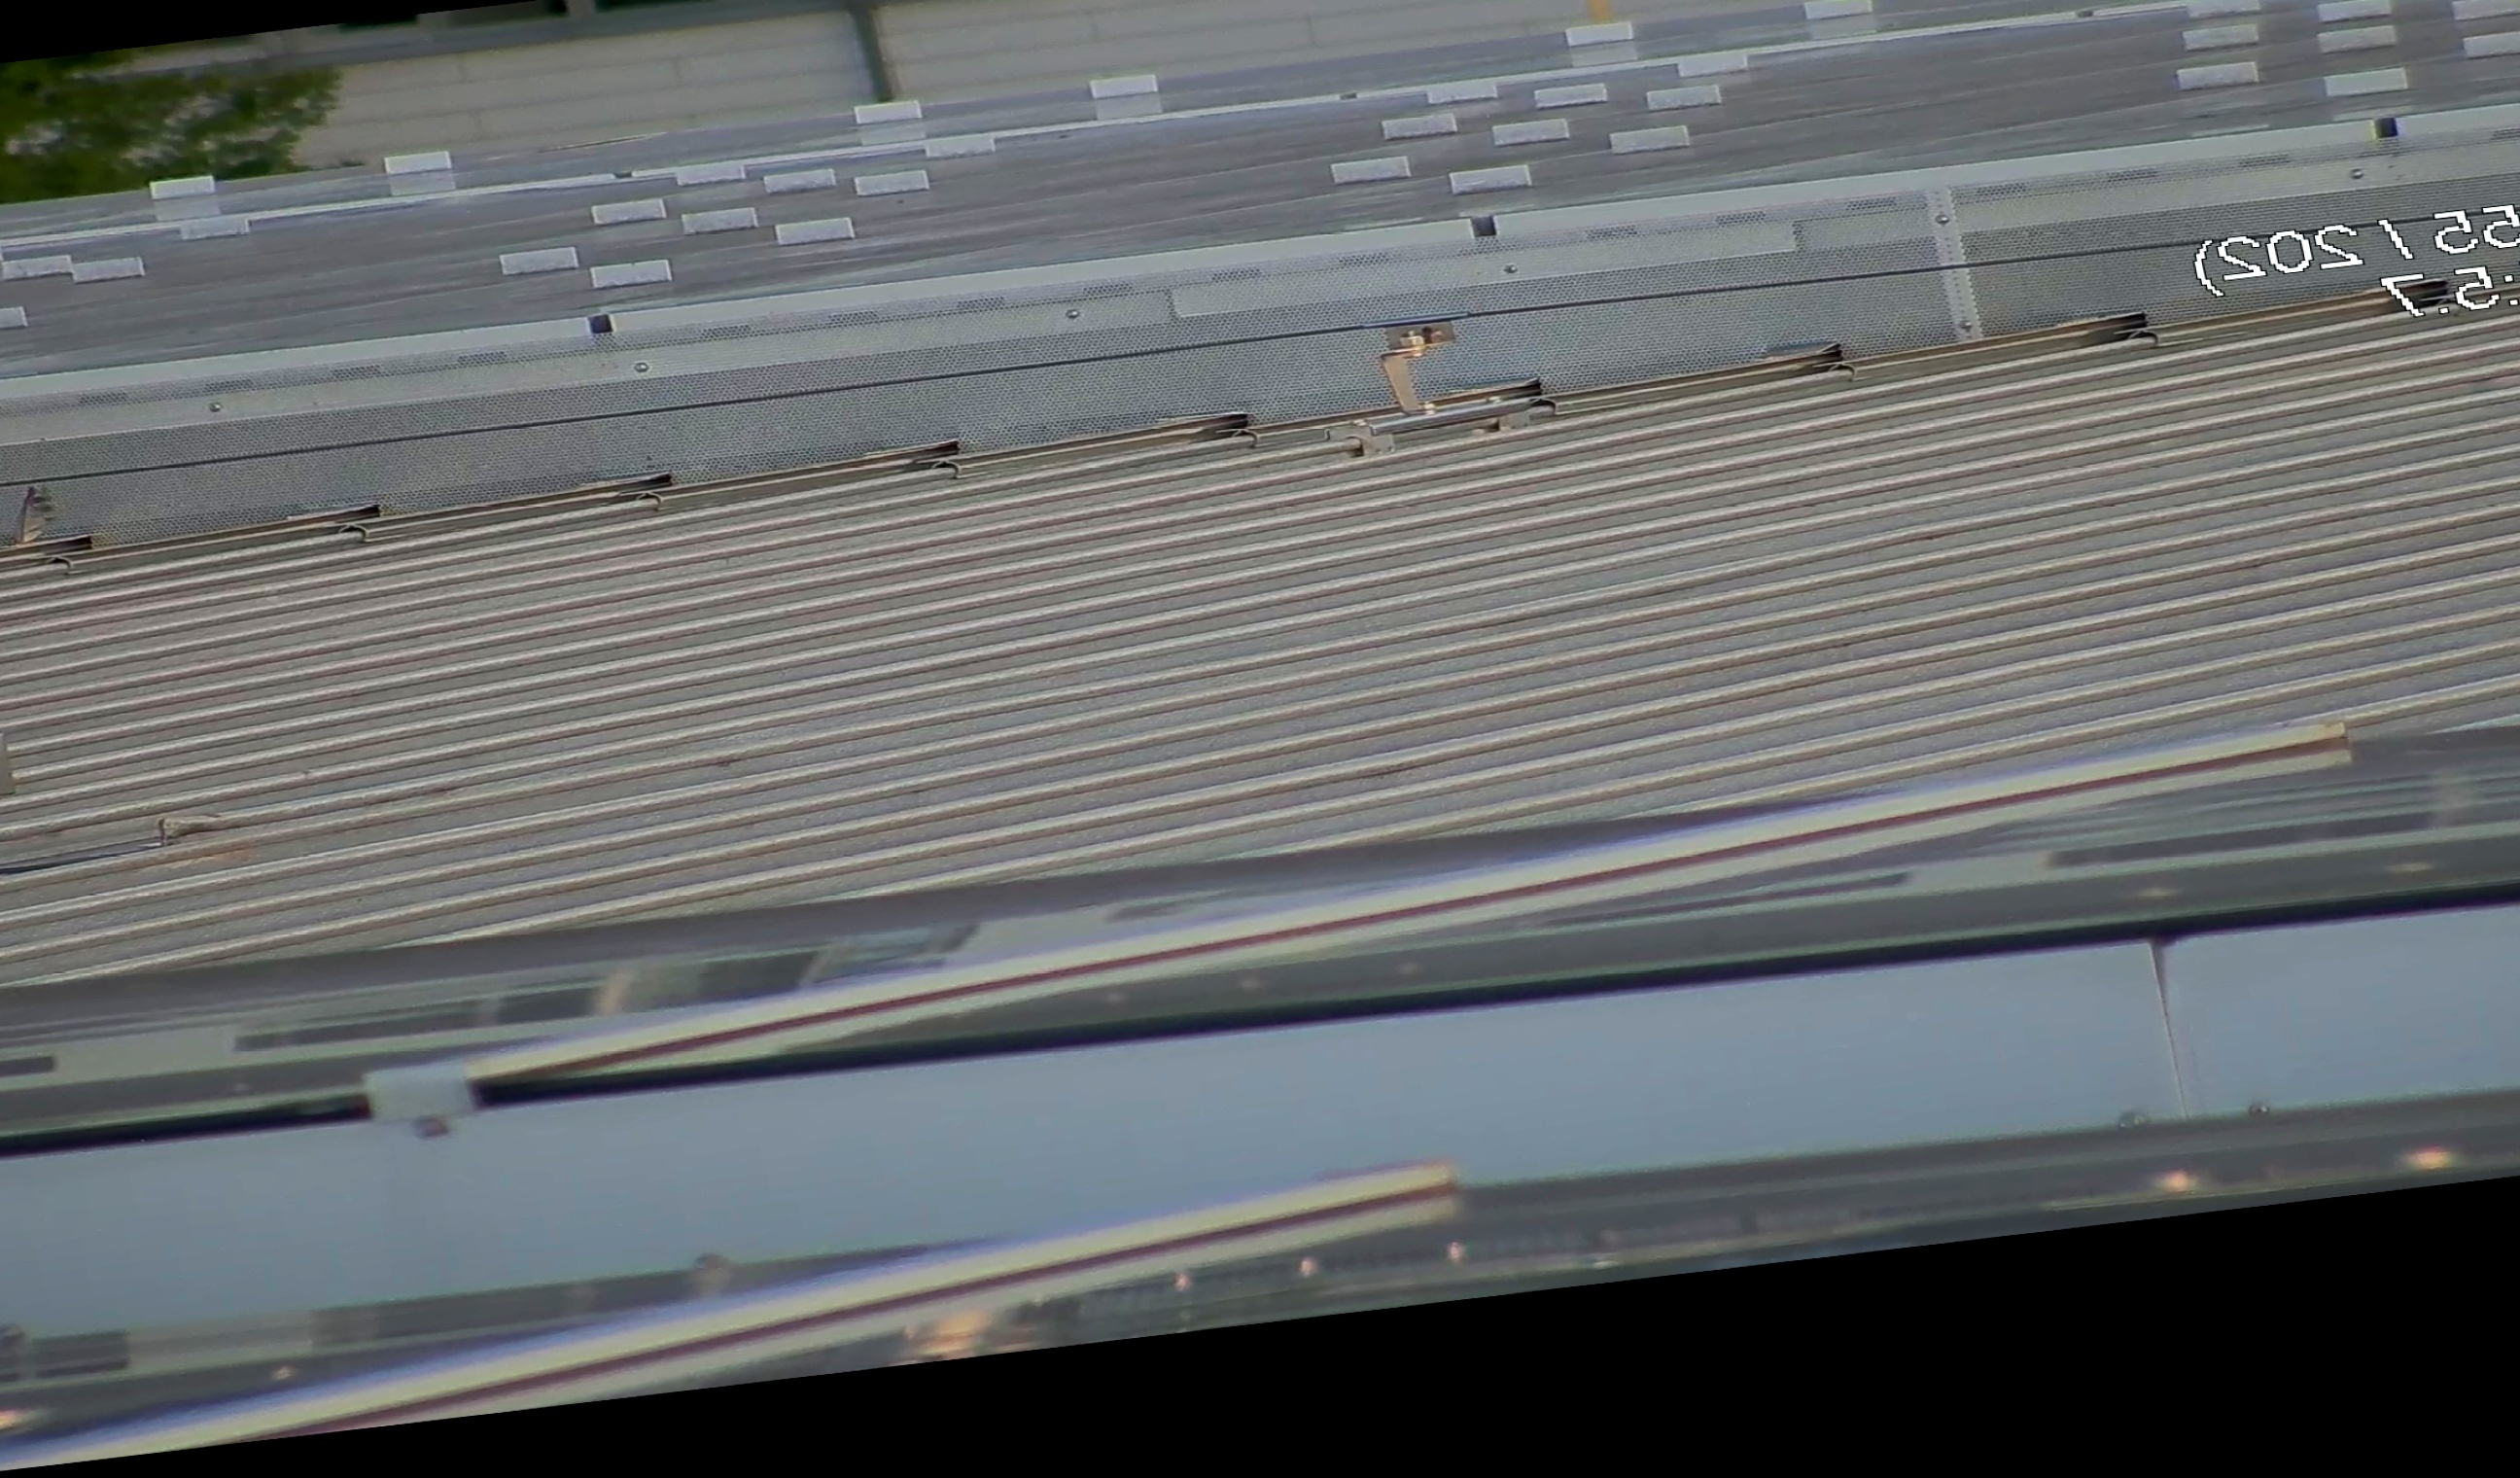Other: (0, 466, 76, 568)
